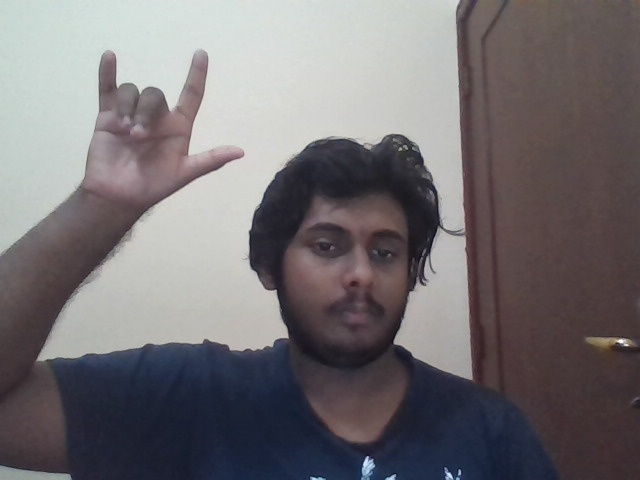iloveyou: (78, 48, 245, 210)
